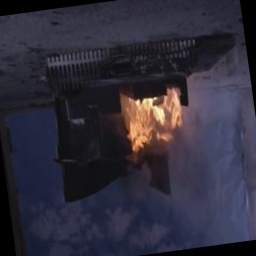fire: (108, 80, 196, 163)
